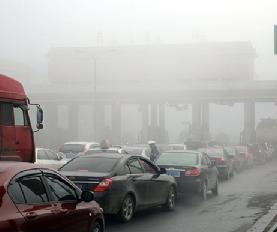bus: (1, 72, 44, 171)
car: (48, 148, 179, 221), (1, 160, 103, 232), (152, 149, 220, 201), (32, 147, 73, 178), (196, 147, 235, 179), (58, 142, 101, 166), (216, 146, 244, 173), (232, 144, 256, 169)
